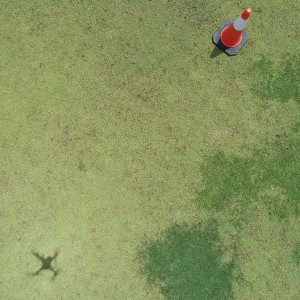traffic cone: (212, 7, 251, 56)
